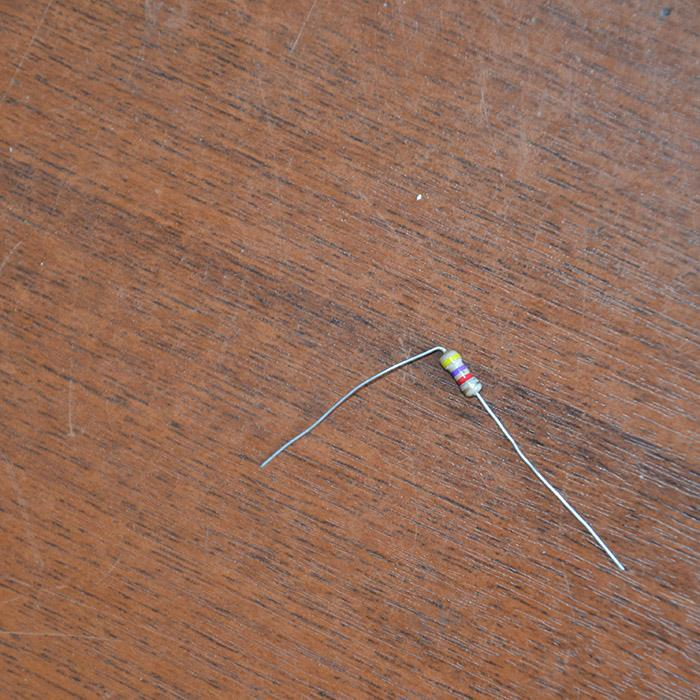resistor: (439, 348, 482, 397)
